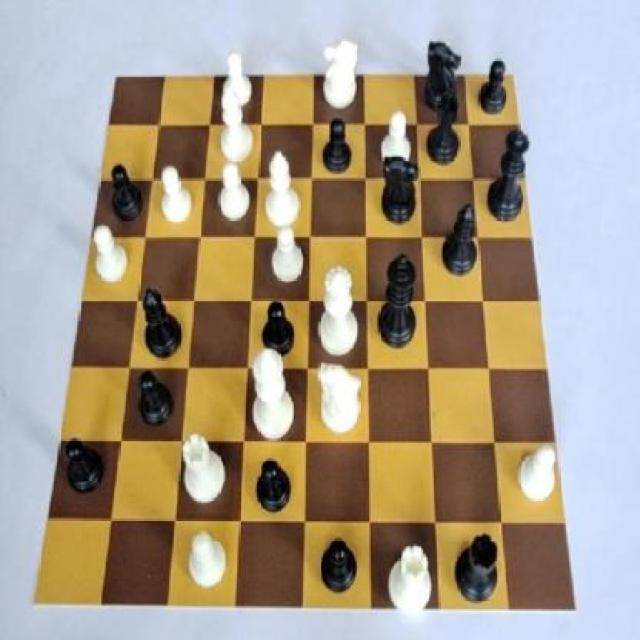bishop: (138, 278, 184, 372), (438, 196, 484, 284)
black-bishop: (374, 248, 426, 358)
black-king: (374, 146, 423, 239), (419, 34, 463, 123)
black-knight: (311, 526, 359, 606), (132, 358, 178, 438), (60, 428, 109, 503), (248, 448, 295, 524), (254, 291, 302, 363), (103, 157, 149, 232), (315, 114, 357, 183), (474, 51, 514, 120)
black-pawn: (483, 126, 531, 231)
black-queen: (454, 522, 506, 613), (423, 86, 463, 175)
black-rook: (260, 140, 305, 231), (212, 83, 257, 173)
white-bishop: (248, 348, 296, 450)
white-king: (312, 356, 362, 442), (317, 32, 362, 117)
white-knight: (88, 221, 135, 297), (215, 38, 258, 118), (186, 522, 230, 600), (514, 438, 563, 508), (376, 106, 420, 179), (212, 158, 252, 228), (155, 162, 194, 232), (266, 225, 306, 287)
white-pawn: (312, 262, 360, 362)
white-queen: (383, 543, 442, 623), (183, 425, 228, 517)
